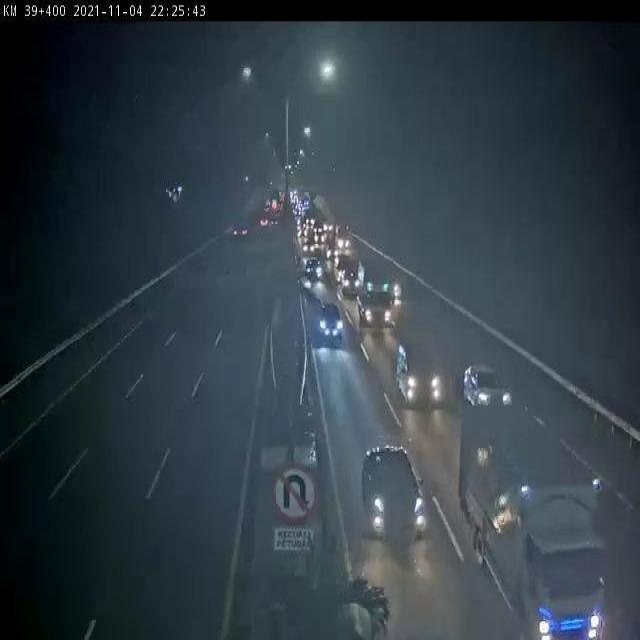Car: (360, 443, 425, 538), (463, 364, 513, 407), (316, 303, 343, 349), (303, 254, 328, 274), (342, 270, 359, 297), (233, 223, 248, 239)
Truck: (460, 400, 604, 640), (356, 256, 394, 334)
Van: (397, 339, 441, 406)
